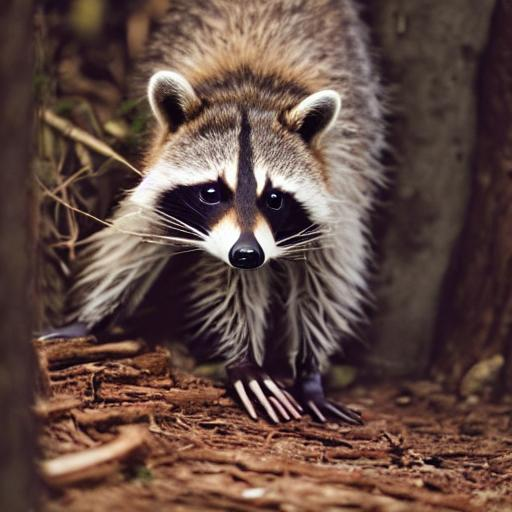raccoon: (92, 0, 400, 364)
